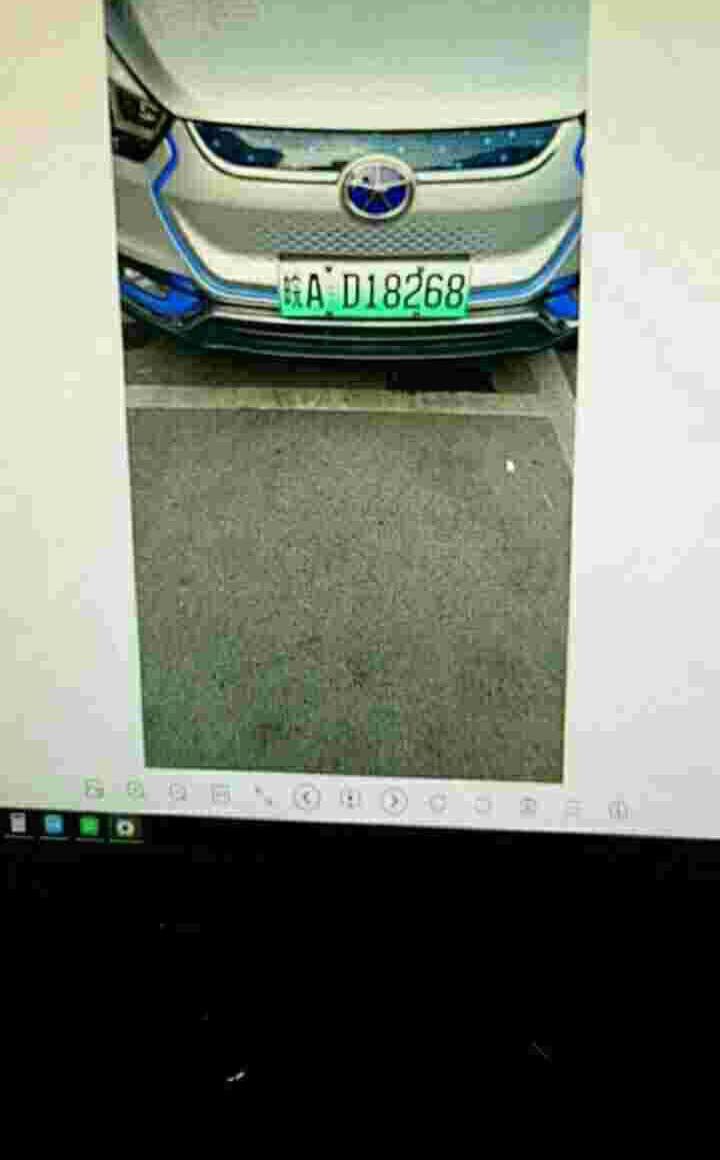car: (272, 265, 470, 316)
